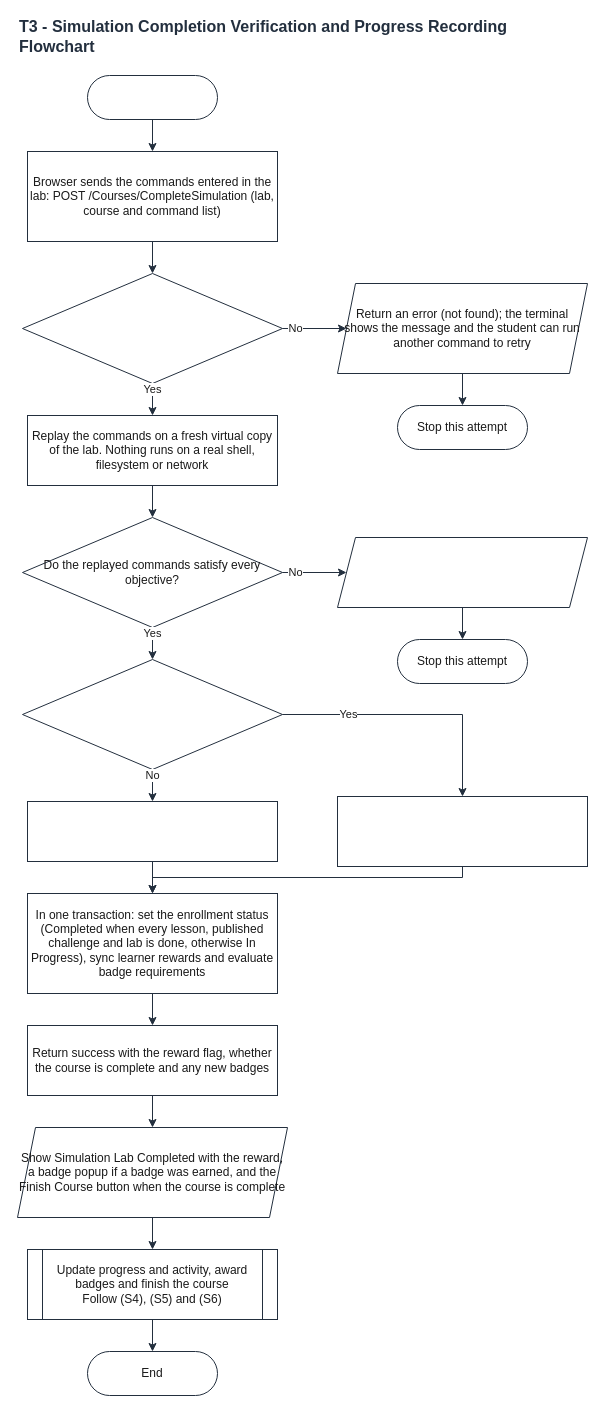
The diagram is 605 pixels wide and 1413 high, and some of its shapes have lost their labels. The centre of each missing label's shape, as x and y in pixels:
"Course published, student enrolled and lab published?" belongs at [152,328].
"Insert a progress record: lab, completed, completion time" belongs at [152,831].
"Progress record for this student and lab already exists?" belongs at [152,714].
"Return The lab objectives are not complete; the terminal shows the message" belongs at [462,572].
"Start" belongs at [152,97].
"Update the progress record: mark it completed and keep the first completion time" belongs at [462,831].
